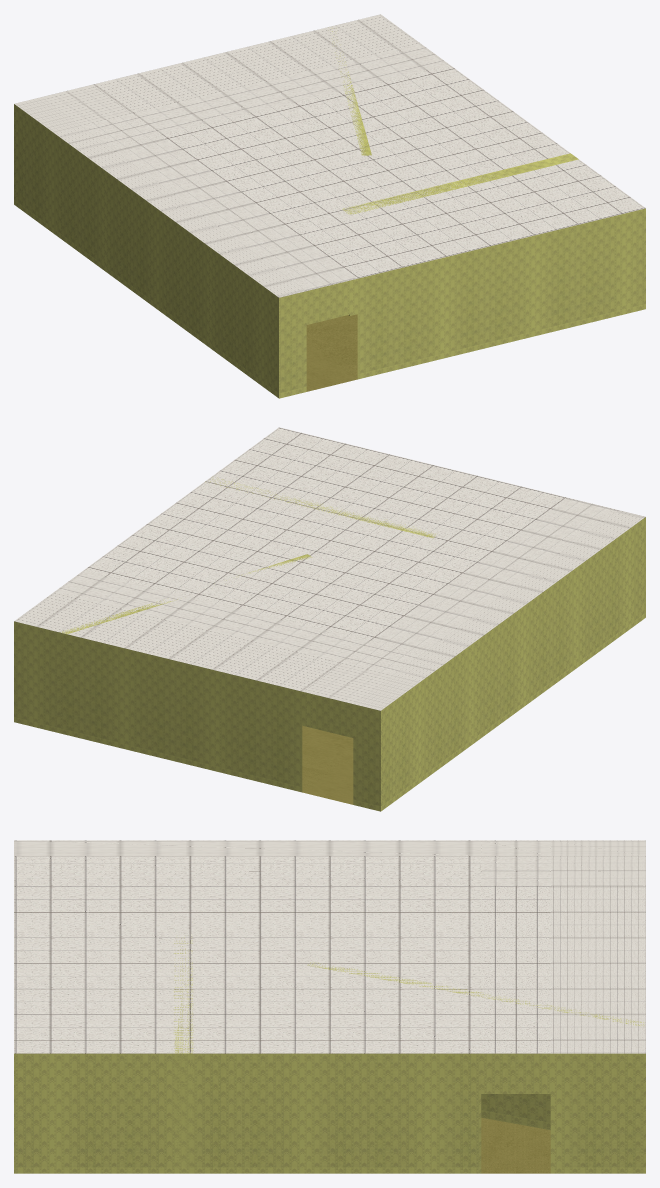
The model's file is Backrooms1.fbx.
3 views of the same model, one above another, from view 1: azimuth 30°, elevation 25°; view 2: azimuth 150°, elevation 25°; view 3: azimuth 270°, elevation 25° (orthographic). The views are drawn at different scales.
Visible parts, largest first — view 1: Backroom1_techo, Backroom1_paredes1.1, Backroom1_piso, Backroom1_paredes1.2; view 2: Backroom1_techo, Backroom1_paredes1.1, Backroom1_piso, Backroom1_paredes1.2; view 3: Backroom1_techo, Backroom1_paredes1.1, Backroom1_paredes1.2, Backroom1_piso.
Part boxes in pixels (x1,y1,x2,y2): Backroom1_techo: (14, 14, 645, 297); Backroom1_paredes1.1: (14, 104, 645, 398); Backroom1_piso: (306, 314, 357, 391); Backroom1_paredes1.2: (332, 28, 578, 315); Backroom1_techo: (14, 427, 645, 710); Backroom1_paredes1.1: (14, 517, 645, 811); Backroom1_piso: (302, 725, 353, 804); Backroom1_paredes1.2: (59, 477, 435, 734); Backroom1_techo: (14, 840, 645, 1053); Backroom1_paredes1.1: (14, 1053, 645, 1173); Backroom1_paredes1.2: (173, 937, 644, 1173); Backroom1_piso: (481, 1117, 550, 1173).
Size of the model in its own units: 1599 by 420 by 2002.
Materials: 3 (3 with a texture image).
